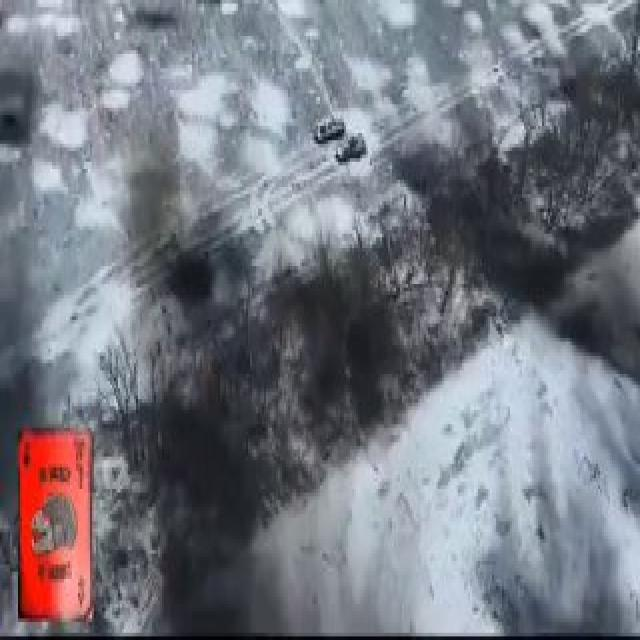cars: (336, 129, 366, 165), (314, 114, 347, 142)
